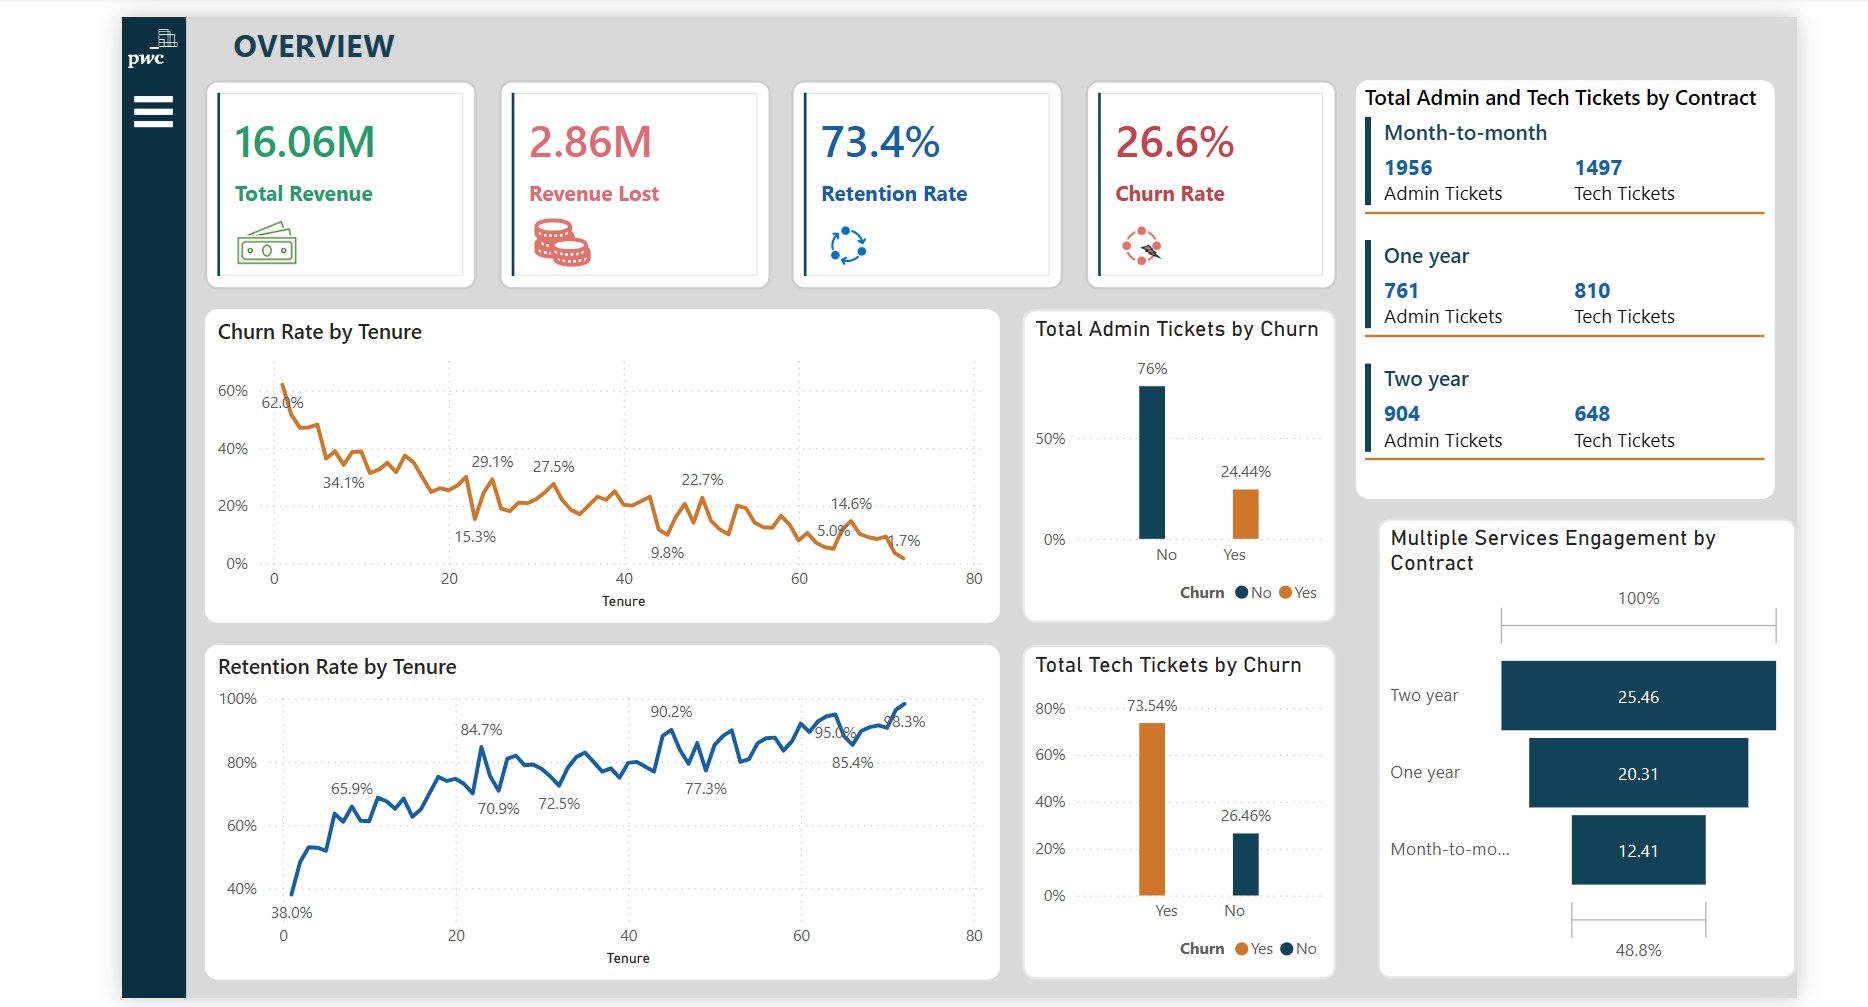

This screenshot's page, from the dashboard's own definition file:
{"tool":"powerbi","page":{"name":"Overview","canvas":[1280,750],"ordinal":0},"visuals":[{"type":"cardVisual","fields":{"Data":["Churn Dataset.Churn Rate"]},"box":[736,48,192,160],"z":0},{"type":"cardVisual","fields":{"Data":["Churn Dataset.TotalRevenueLostByChurn"]},"box":[288,48,208,160],"z":1000},{"type":"cardVisual","fields":{"Data":["Churn Dataset.Retention Rate"]},"box":[512,48,208,160],"z":2000},{"type":"cardVisual","fields":{"Data":["Sum(Churn Dataset.TotalCharges)"]},"box":[64,48,208,160],"z":3000},{"type":"multiRowCard","title":"Total Admin and Tech Tickets by Contract","fields":{"Values":["Churn Dataset.Contract","Sum(Churn Dataset.AdminTickets)","Sum(Churn Dataset.TechTickets)"]},"box":[944,48,320,320],"z":4000},{"type":"lineChart","fields":{"Category":["Churn Dataset.Tenure"],"Y":["Churn Dataset.Churn Rate"]},"box":[64,224,608,240],"z":5000},{"type":"lineChart","fields":{"Category":["Churn Dataset.Tenure"],"Y":["Churn Dataset.Retention Rate"]},"box":[64,480,608,256],"z":6000},{"type":"clusteredColumnChart","title":"Total Admin Tickets by Churn","fields":{"Y":["Sum(Churn Dataset.AdminTickets)"],"Category":["Churn Dataset.Churn"],"Series":["Churn Dataset.Churn"]},"box":[688,224,240,240],"z":7000},{"type":"clusteredColumnChart","title":"Total Tech Tickets by Churn","fields":{"Y":["Sum(Churn Dataset.TechTickets)"],"Category":["Churn Dataset.Churn"],"Series":["Churn Dataset.Churn"]},"box":[688,480,240,256],"z":8000},{"type":"textbox","box":[80,0,144,48],"z":9000},{"type":"funnel","fields":{"Category":["Churn Dataset.Contract"],"Y":["Churn Dataset.Multiple Services Engagement"]},"box":[960,384,320,352],"z":11000},{"type":"image","title":"Open Menu","box":[0,48,48,48],"z":13000}]}

Visuals, with their boxes on the page's 1280x750 design canvas (x1, y1, x2, y2). These are canvas units, not pixel positions in the 1868x1007 screenshot, which may show the page scaled, cropped or inside an application window:
cardVisual - Churn Dataset.Churn Rate: x1=736 y1=48 x2=928 y2=208
cardVisual - Churn Dataset.TotalRevenueLostByChurn: x1=288 y1=48 x2=496 y2=208
cardVisual - Churn Dataset.Retention Rate: x1=512 y1=48 x2=720 y2=208
cardVisual - Sum(Churn Dataset.TotalCharges): x1=64 y1=48 x2=272 y2=208
"Total Admin and Tech Tickets by Contract" multiRowCard: x1=944 y1=48 x2=1264 y2=368
lineChart - Churn Dataset.Tenure x Churn Dataset.Churn Rate: x1=64 y1=224 x2=672 y2=464
lineChart - Churn Dataset.Tenure x Churn Dataset.Retention Rate: x1=64 y1=480 x2=672 y2=736
"Total Admin Tickets by Churn" clusteredColumnChart: x1=688 y1=224 x2=928 y2=464
"Total Tech Tickets by Churn" clusteredColumnChart: x1=688 y1=480 x2=928 y2=736
textbox: x1=80 y1=0 x2=224 y2=48
funnel - Churn Dataset.Contract x Churn Dataset.Multiple Services Engagement: x1=960 y1=384 x2=1280 y2=736
"Open Menu" image: x1=0 y1=48 x2=48 y2=96
